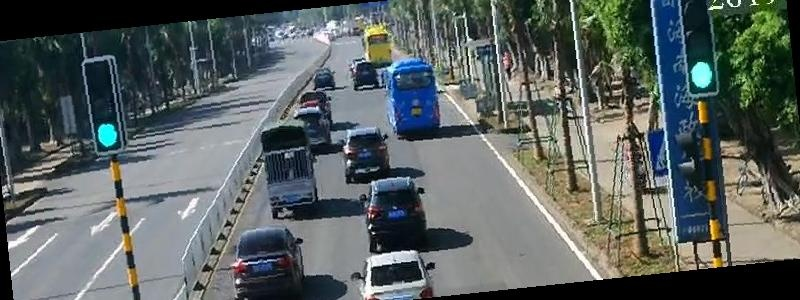green: (686, 61, 716, 89), (95, 120, 119, 147)
